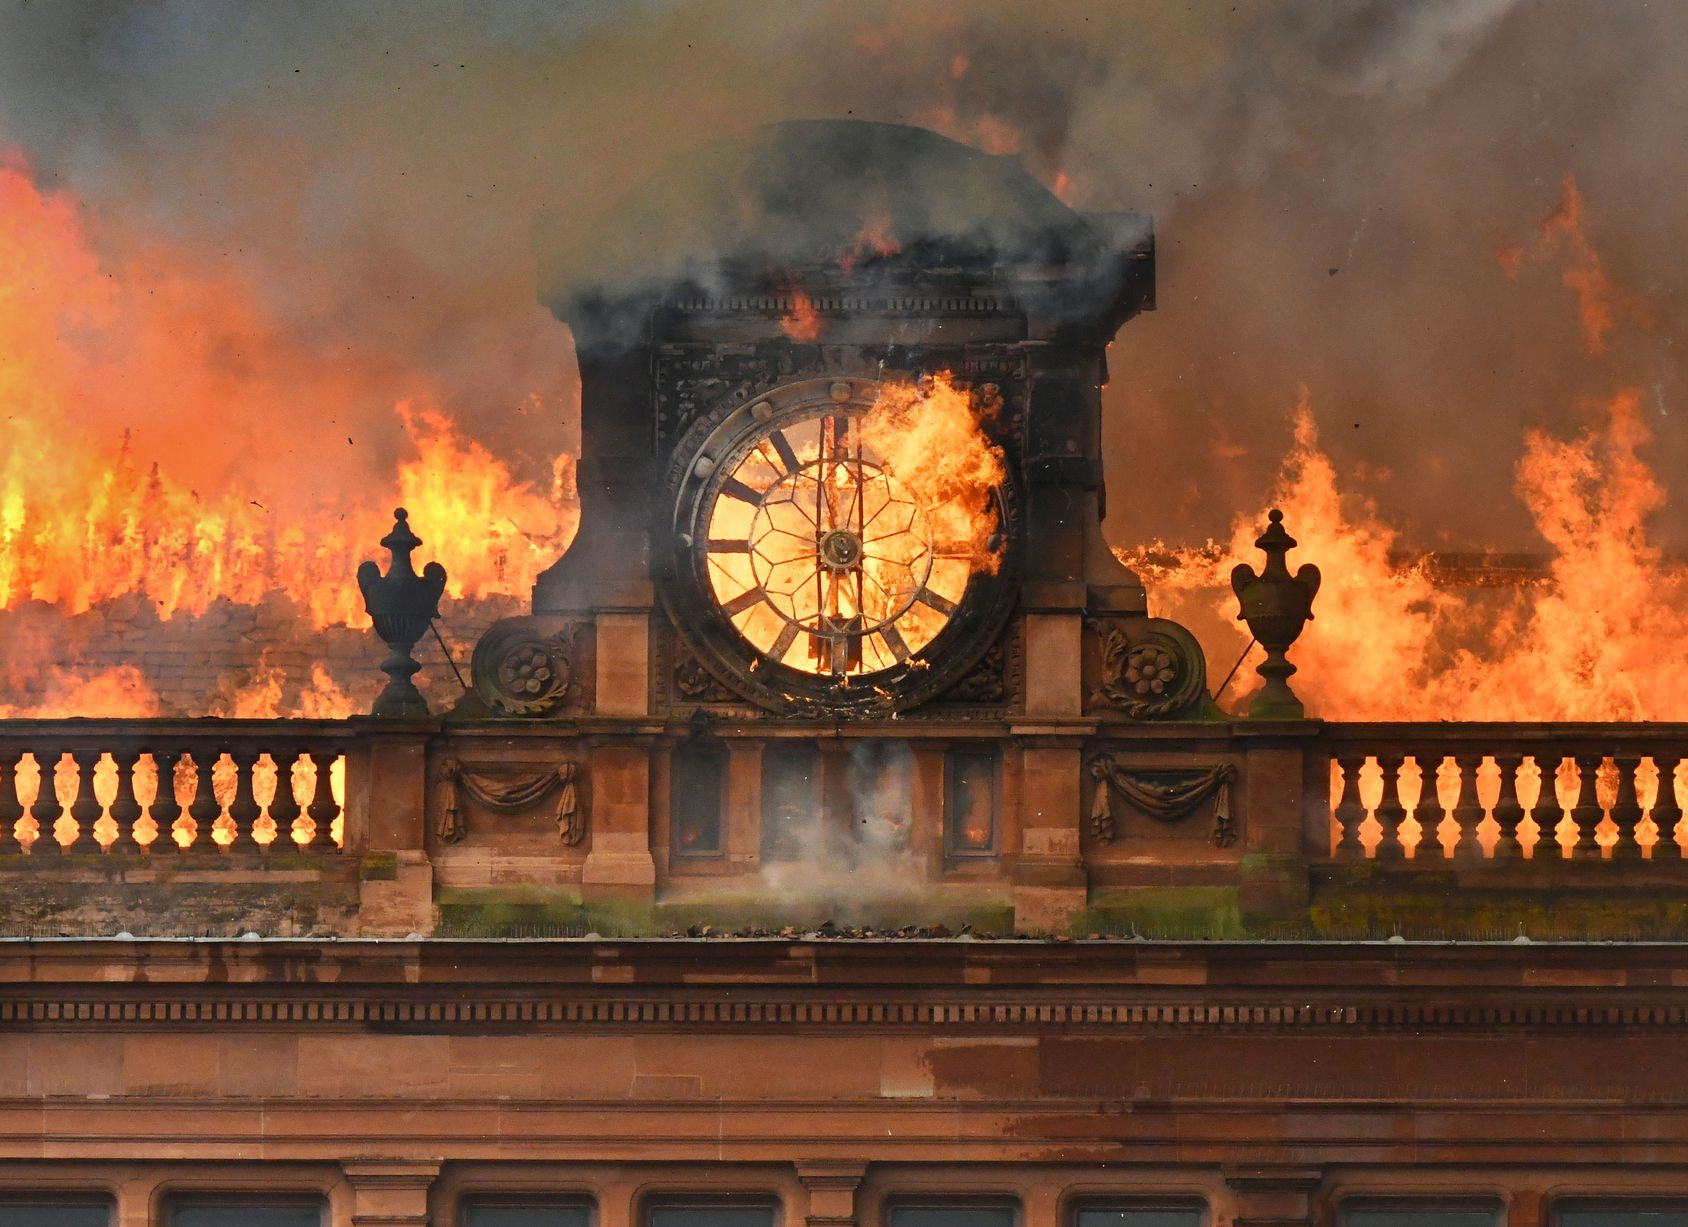fire: (14, 214, 560, 606), (1228, 446, 1687, 730), (748, 399, 1007, 587)
smoke: (22, 7, 1128, 228), (1134, 45, 1679, 440), (750, 752, 940, 912)
